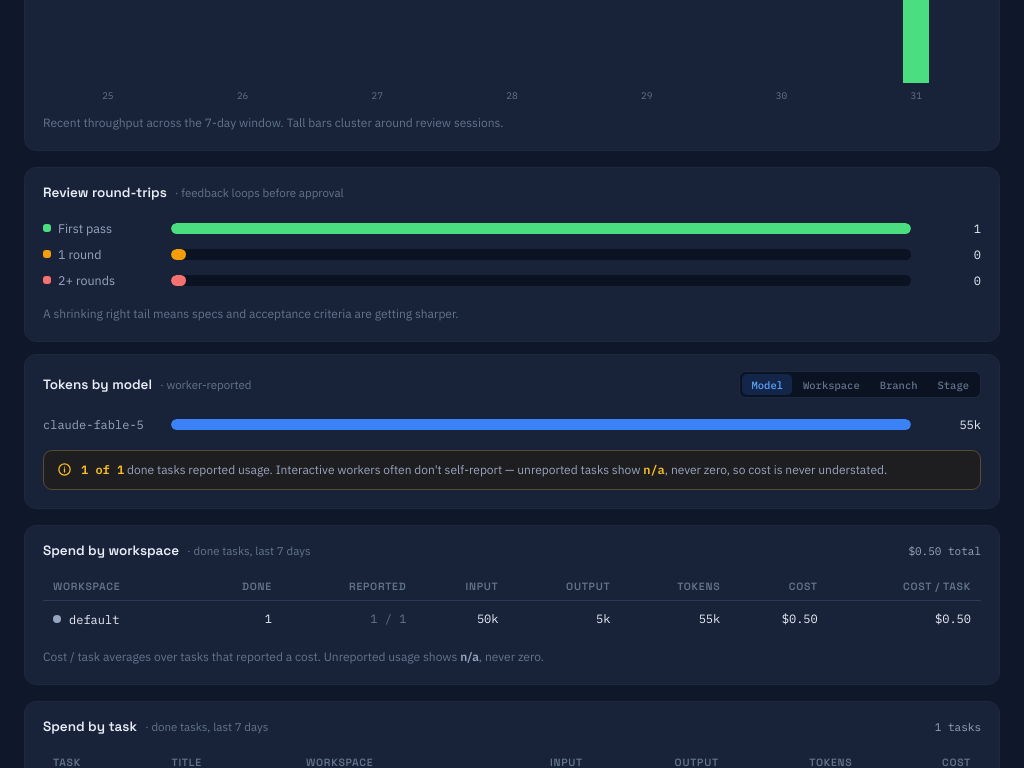
AnalyticsView › groups token usage by stage when the Stage toggle is selected
(page scrolled)
Click the button "Stage".
click(953, 384)  # box [928,374,978,395]
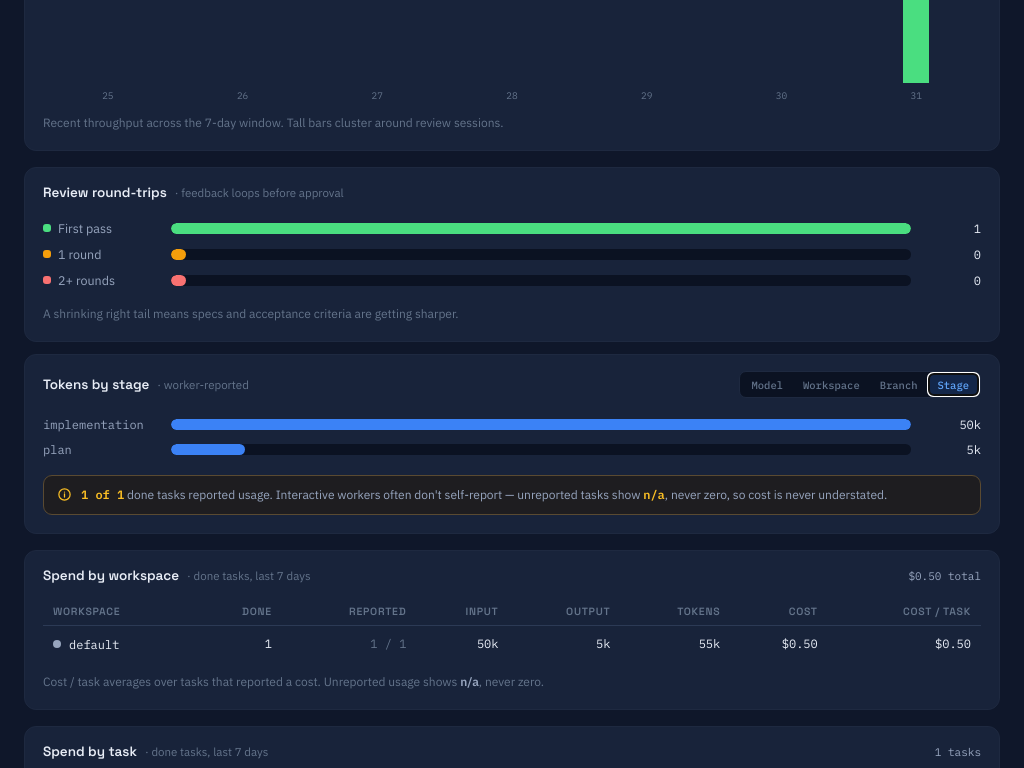
Result: the heading "Tokens by stage" is shown at [43,376,149,392]
Result: the text "implementation" is shown at [43,417,159,432]
Result: the text "plan" is shown at [43,442,72,457]
